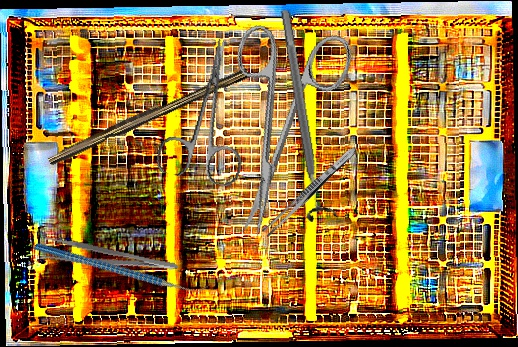Chopper: (32, 189, 211, 344)
Dressing Forceps: (260, 143, 360, 240), (41, 235, 179, 284)
Fixation Ring: (268, 7, 339, 223)
Iris Scissors: (191, 11, 358, 249), (154, 31, 266, 189)
Scalpel Handle: (45, 61, 251, 170)
